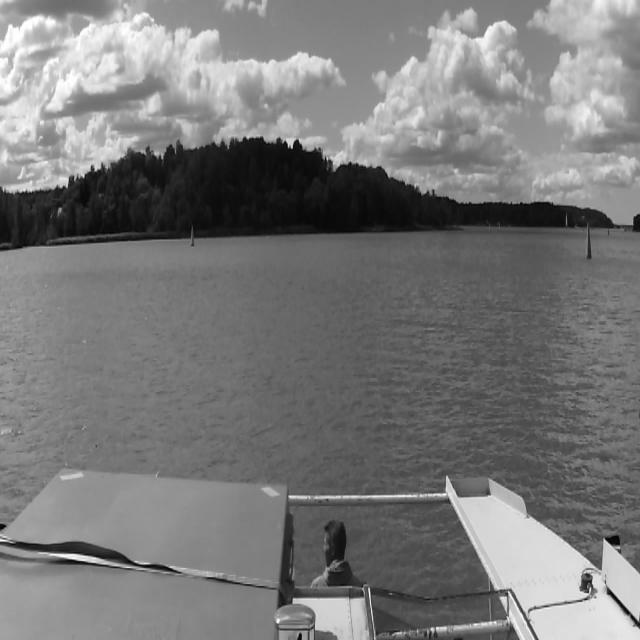buoy: (586, 221, 592, 259), (189, 226, 195, 246)
